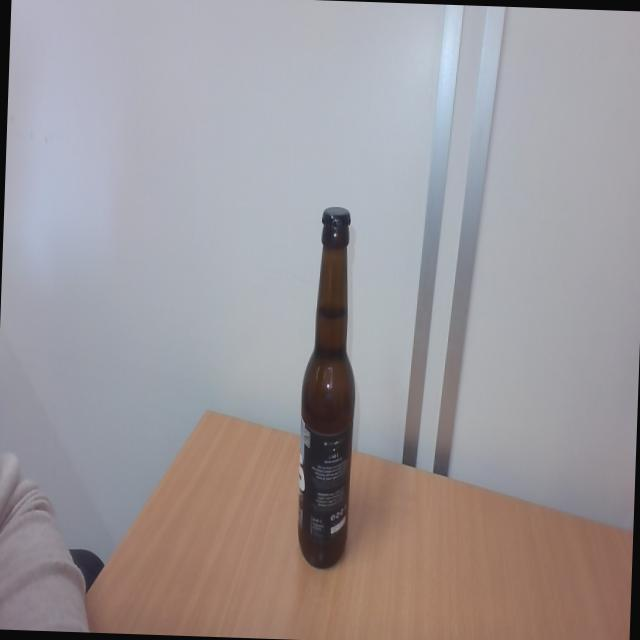Bottle: (294, 233, 360, 570)
Cap: (320, 202, 352, 232)
Label: (296, 422, 354, 543)
